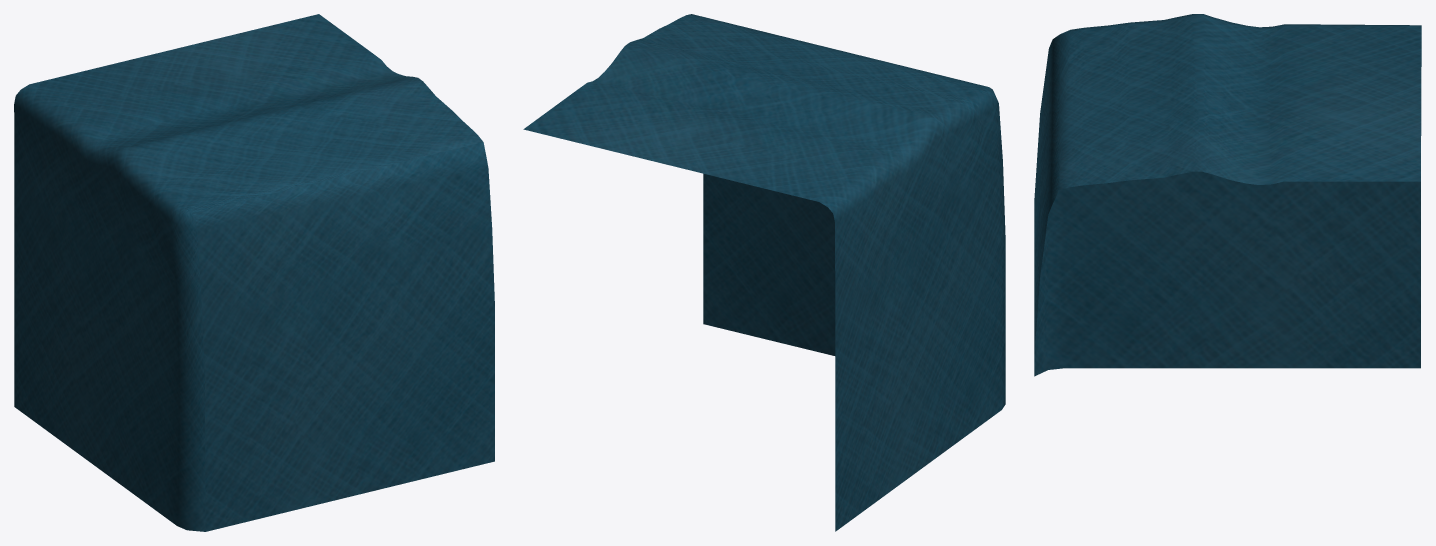
Rendered from tl_endcurveR.FBX.
3 views of the same model, side by side, from view 1: azimuth 30°, elevation 25°; view 2: azimuth 150°, elevation 25°; view 3: azimuth 270°, elevation 25° (orthographic). The views are drawn at different scales.
Parts seen in each view (by area): view 1: tl_endcurveR001_FINAL; view 2: tl_endcurveR001_FINAL; view 3: tl_endcurveR001_FINAL.
Boxes of the visible parts, bbox=[...] form: tl_endcurveR001_FINAL: bbox=[14, 14, 494, 531]; tl_endcurveR001_FINAL: bbox=[523, 14, 1005, 531]; tl_endcurveR001_FINAL: bbox=[1034, 14, 1421, 376].
Bounding box in the file's own units: 100 × 103 × 100.
